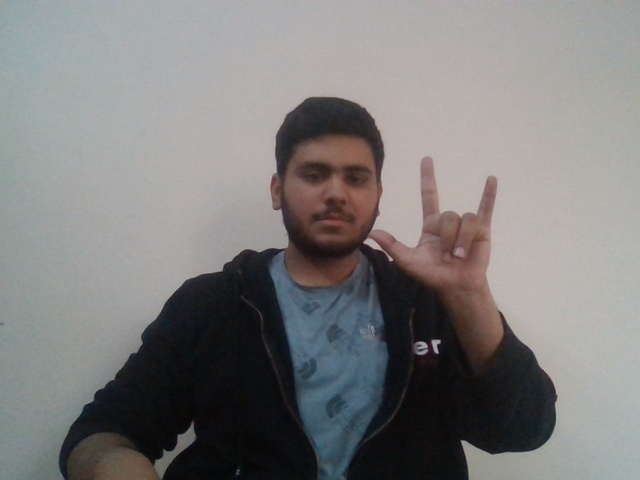IloveYou: (364, 154, 519, 291)
